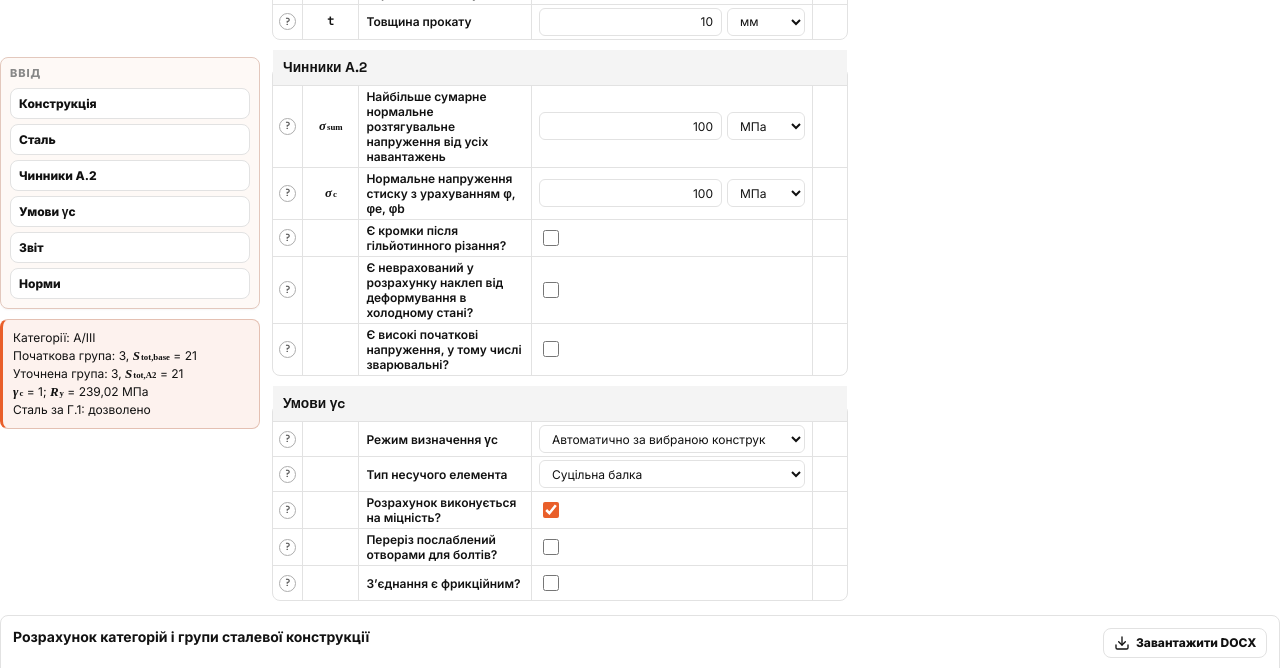
Scenario: SteelStructureCategoryGroupCalculator › switches between semi-automatic and manual gamma c controls
The image size is (1280, 668).
(page scrolled)
Select "Напівавтоматично — вибір позиції таблиці 5.1" in the dropdown labelled "Режим визначення γc" at (672, 439), box [539,425,805,453]
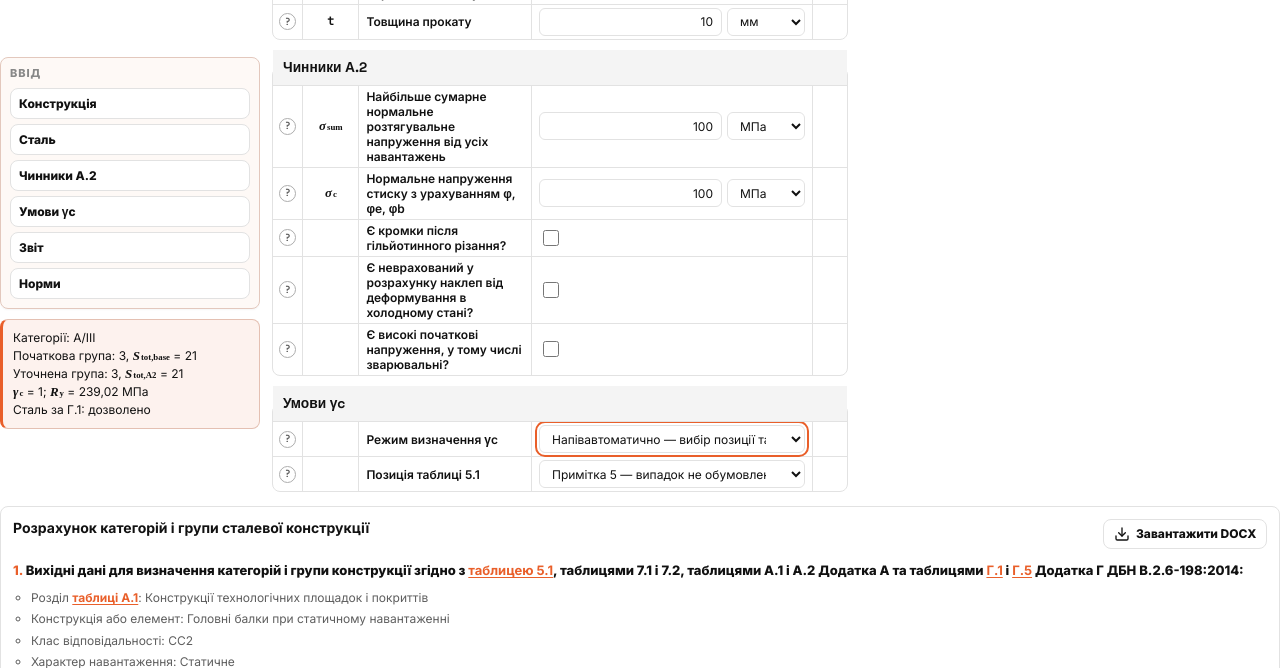
Expected: the field labelled "Коефіцієнт умов роботи" is not shown
Result: the dropdown labelled "Позиція таблиці 5.1" is shown at [539,460,805,488]
Select "Вручну" in the dropdown labelled "Режим визначення γc" at (672, 439), box [539,425,805,453]
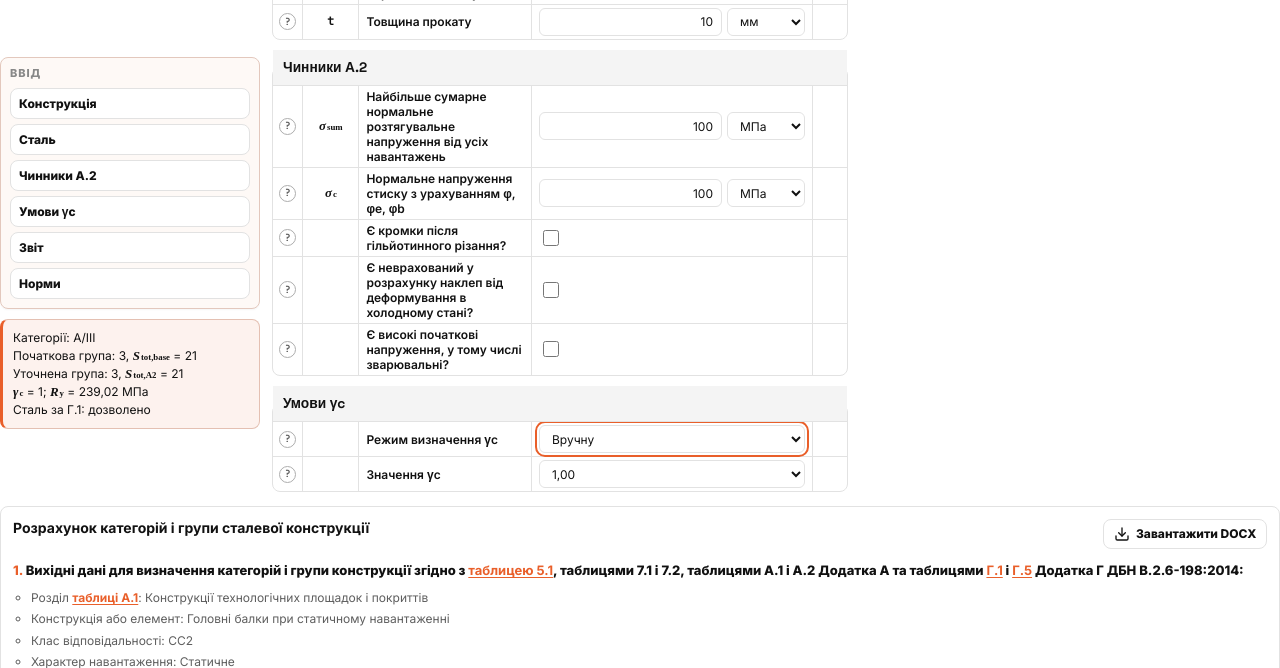
Expected: the field labelled "Коефіцієнт умов роботи" is not shown
Result: the dropdown labelled "Значення γc" shows "1,00"
Result: the label "Позиція таблиці 5.1" is gone
Select "Інше значення" in the dropdown labelled "Значення γc" at (672, 474), box [539,460,805,488]
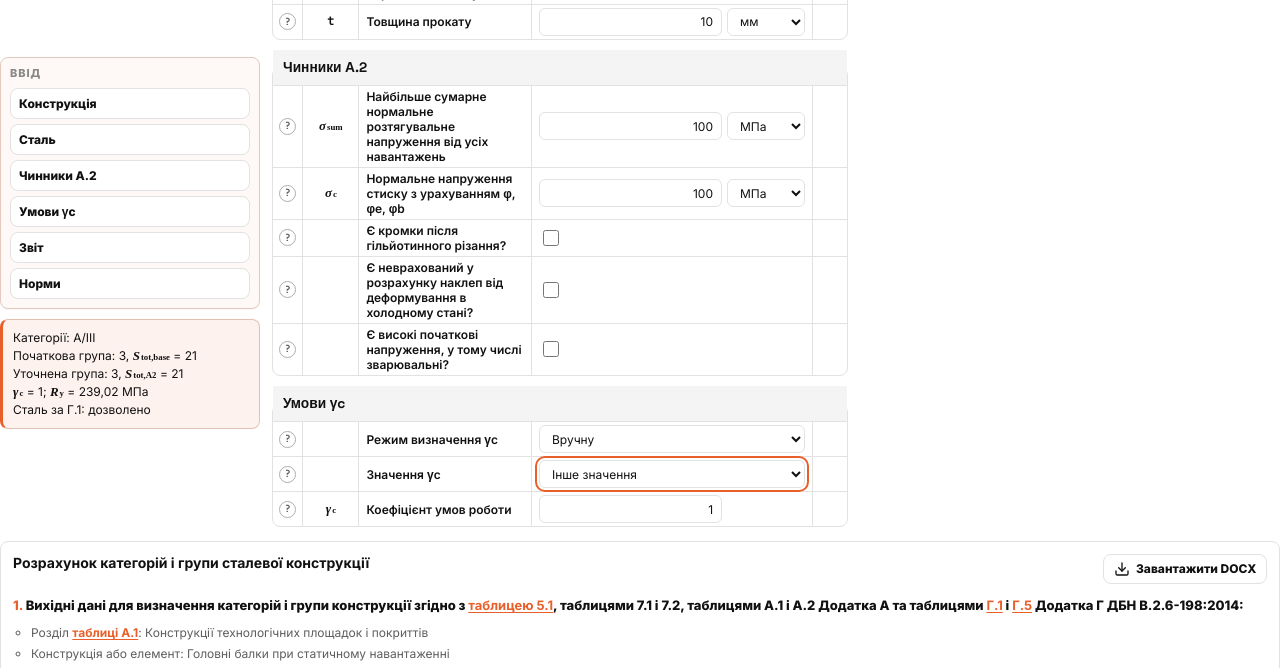
Result: the field labelled "Коефіцієнт умов роботи" holds "1" at [539,495,722,523]
